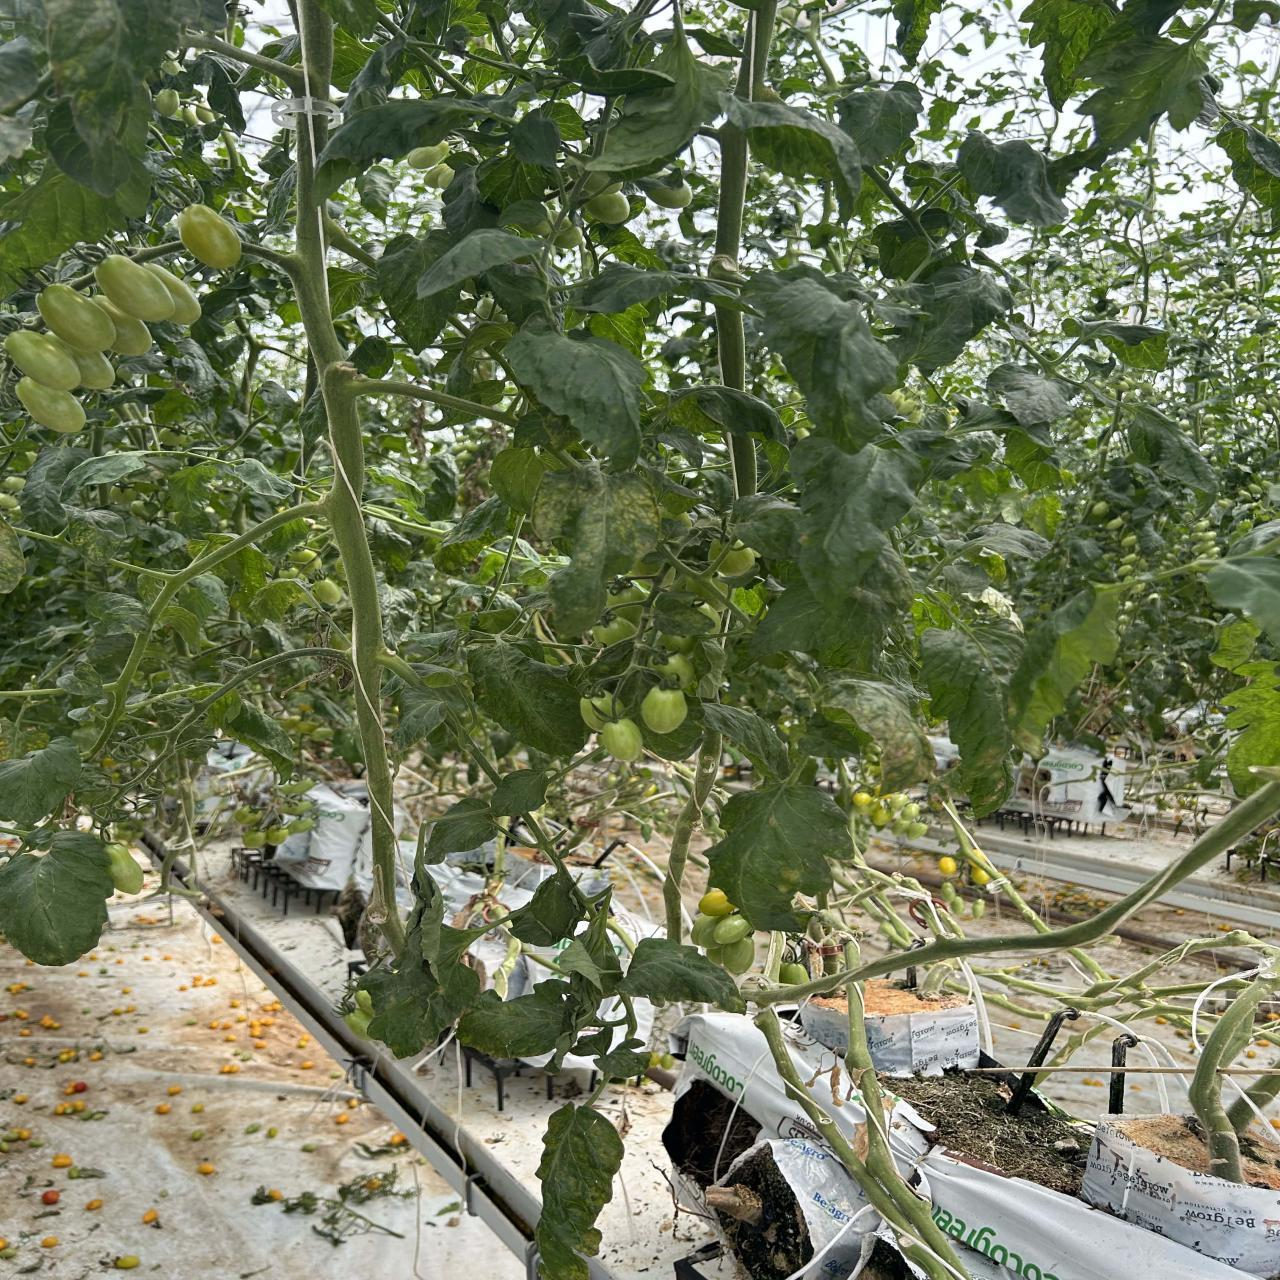Rugose leaf: (742, 275, 898, 451), (355, 864, 484, 1057), (918, 606, 1024, 816), (532, 464, 661, 634), (707, 783, 852, 931), (503, 320, 647, 469), (790, 437, 914, 610), (536, 1102, 624, 1280), (469, 642, 585, 756), (830, 678, 935, 792), (458, 979, 579, 1057), (620, 939, 738, 1009), (1130, 407, 1218, 501), (987, 363, 1076, 428)
Rugose tomato: (107, 844, 144, 894), (406, 142, 449, 170), (423, 164, 455, 190)
